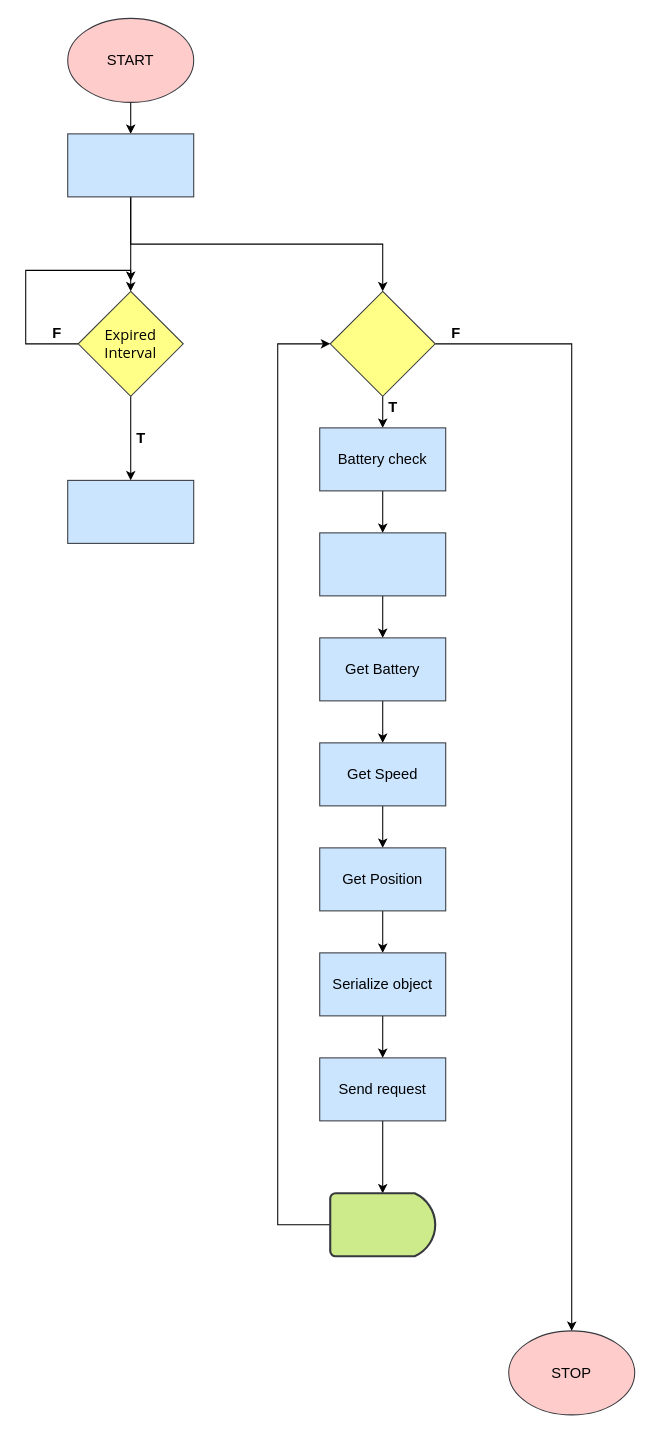
The diagram is 653 pixels wide and 1433 high, and some of its shapes have lost their labels. The shapes that lost their labels are listed below. From the top down, each one's box as (x1, y1, x2, y2) in pixels, then its label:
(67, 133, 194, 197): Timer on 10sec
(329, 290, 435, 396): While
(67, 479, 194, 543): Reduce battery
(319, 532, 446, 596): Create http request
(329, 1192, 436, 1257): Delay 2sec
